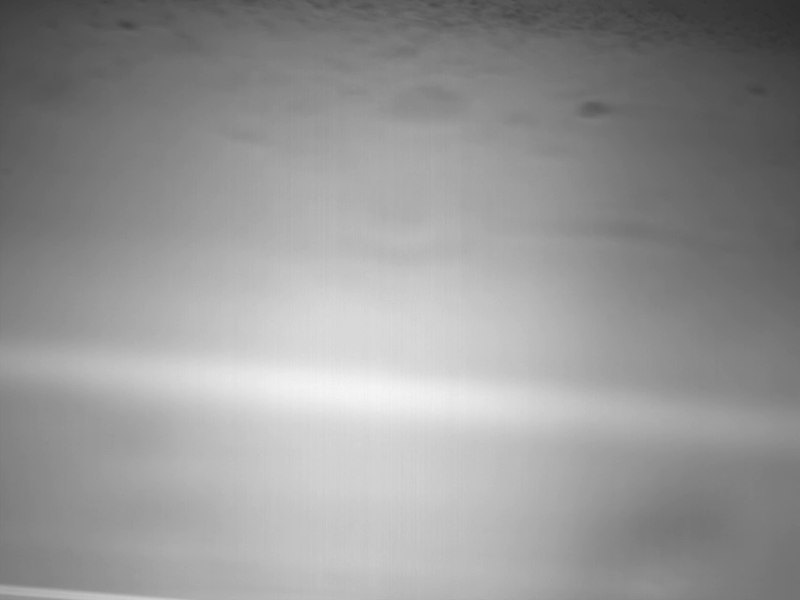bead: (574, 99, 610, 121)
fiber: (350, 210, 731, 267)
